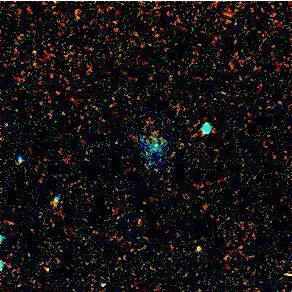star: (186, 233, 216, 263)
